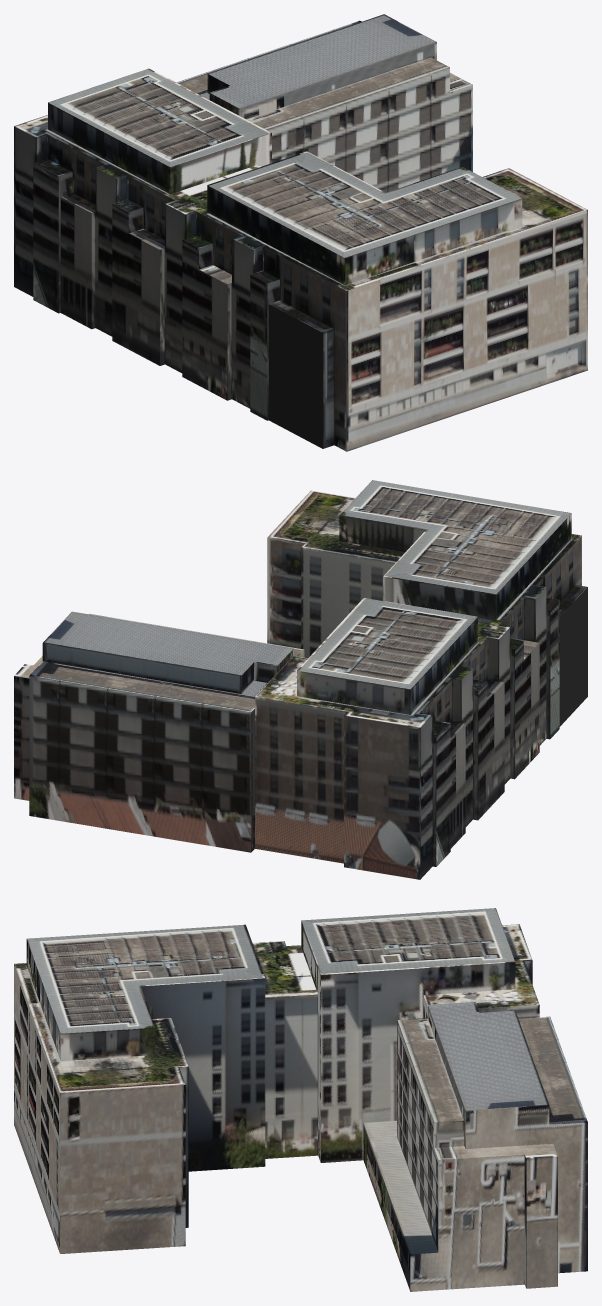
3 renders of one model, top to bottom at view 1: azimuth 30°, elevation 25°; view 2: azimuth 150°, elevation 25°; view 3: azimuth 270°, elevation 25°, orthographic. The views are drawn at different scales.
Parts seen in each view (by area): view 1: Z_UP; view 2: Z_UP; view 3: Z_UP.
Part boxes in pixels (box(x1,y1,x2,y2)): Z_UP: box(14, 14, 587, 451); Z_UP: box(14, 480, 587, 879); Z_UP: box(14, 908, 587, 1291).
Size of the model in its own units: 53.8 by 22.89 by 63.18.
2 materials, 1 textured.
